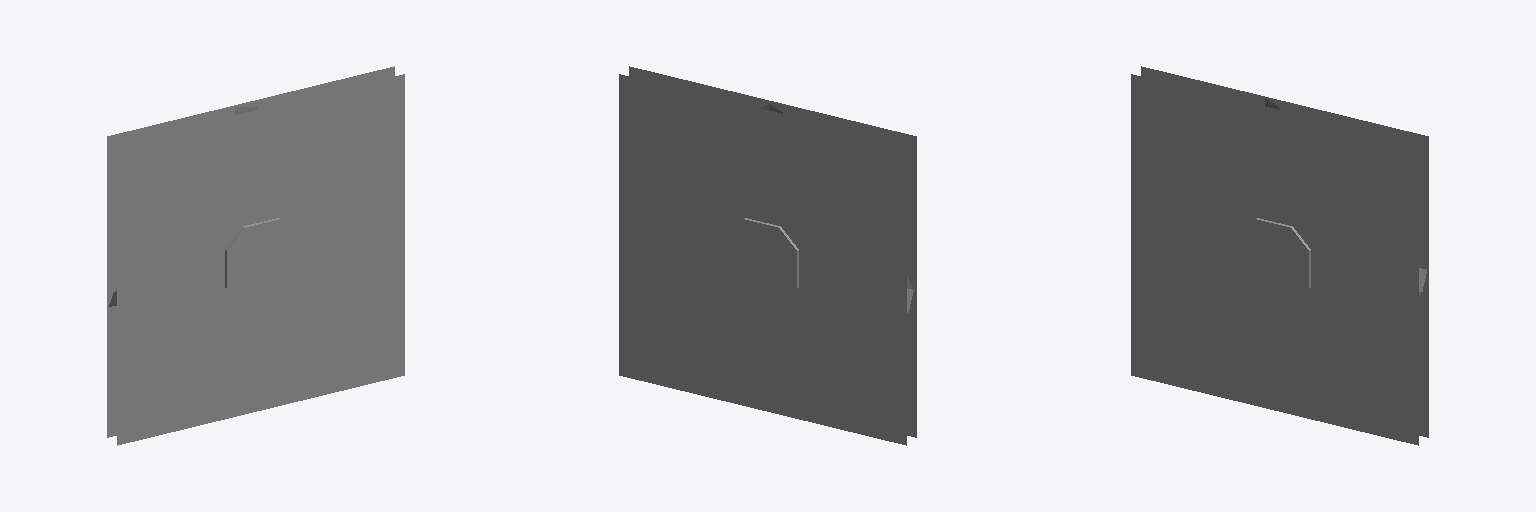
Rendered from fan_modern.obj.
3 renders of one model, left to right at view 1: azimuth 30°, elevation 25°; view 2: azimuth 150°, elevation 25°; view 3: azimuth 330°, elevation 25°, orthographic.
Parts seen in each view (by area): view 1: blades_motionblur_translucent, cuboid; view 2: blades_motionblur_translucent, cuboid; view 3: blades_motionblur_translucent, cuboid.
Part boxes in pixels (bbox=[...]): blades_motionblur_translucent: bbox=[107, 66, 404, 445]; cuboid: bbox=[225, 218, 298, 302]; blades_motionblur_translucent: bbox=[619, 66, 916, 445]; cuboid: bbox=[725, 218, 798, 302]; blades_motionblur_translucent: bbox=[1131, 66, 1428, 445]; cuboid: bbox=[1237, 218, 1310, 302].
Bounding box in the file's own units: 0.375 × 0.375 × 0.0312.